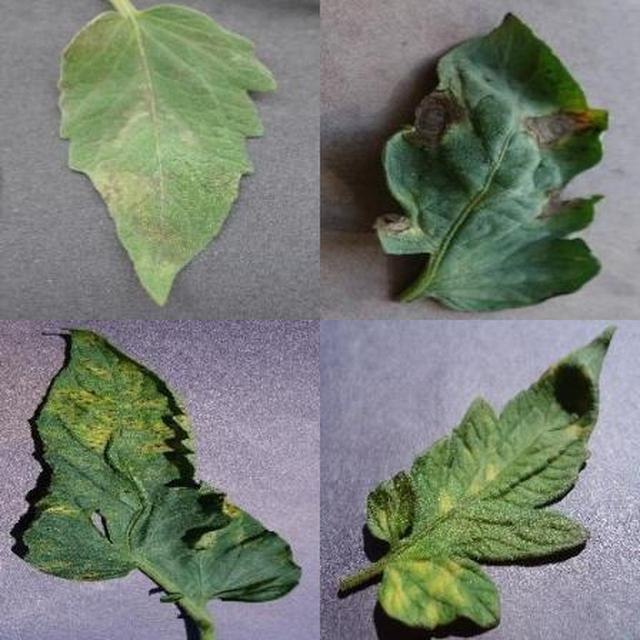Late Blight Leaf: (229, 223, 640, 640)
